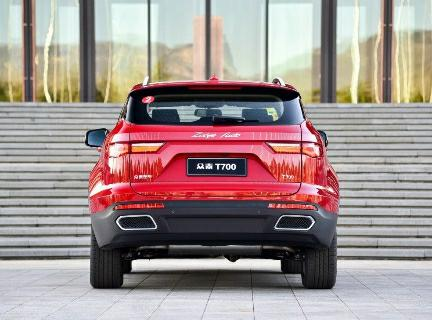car: (53, 67, 348, 304)
